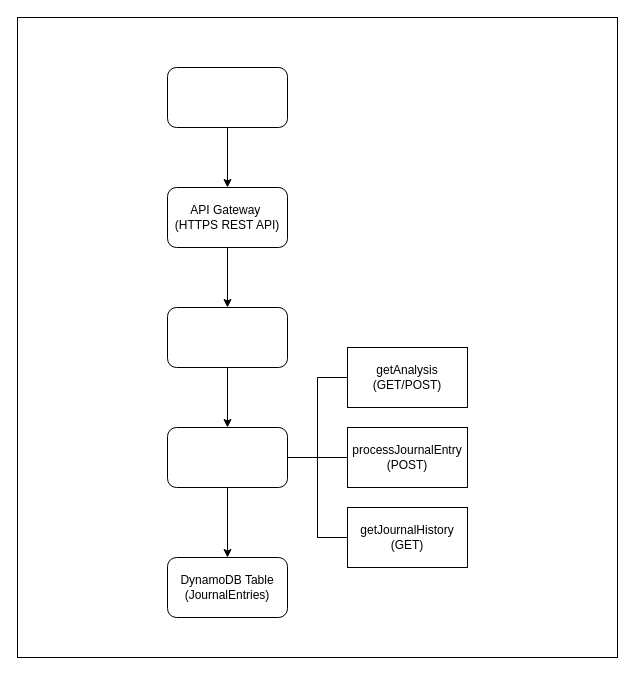
This 635x675 diagram has some shape labels left out. The shapes that lost their labels are listed below. From the top down, each one's centre as x and y in pixels, then its label:
At pixel 227 97: "User Device".
At pixel 227 337: "Web Browser (Sentire Journal UI)".
At pixel 227 457: "Lambda Function Layer".
